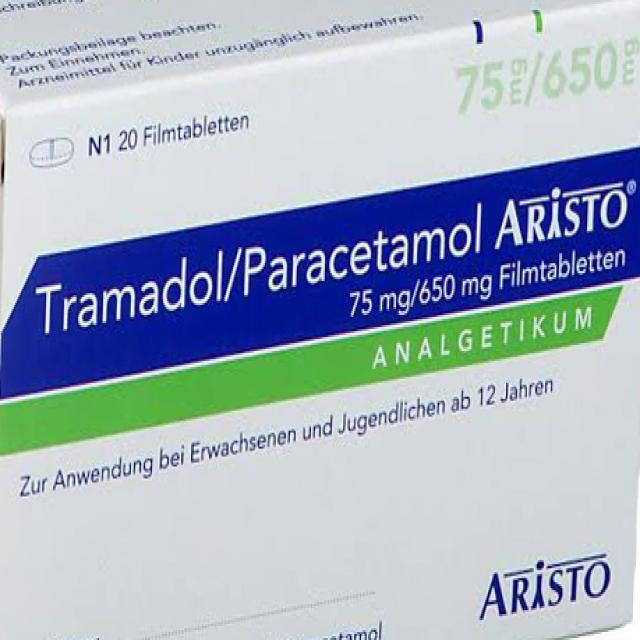drug-name: (493, 175, 630, 255)
